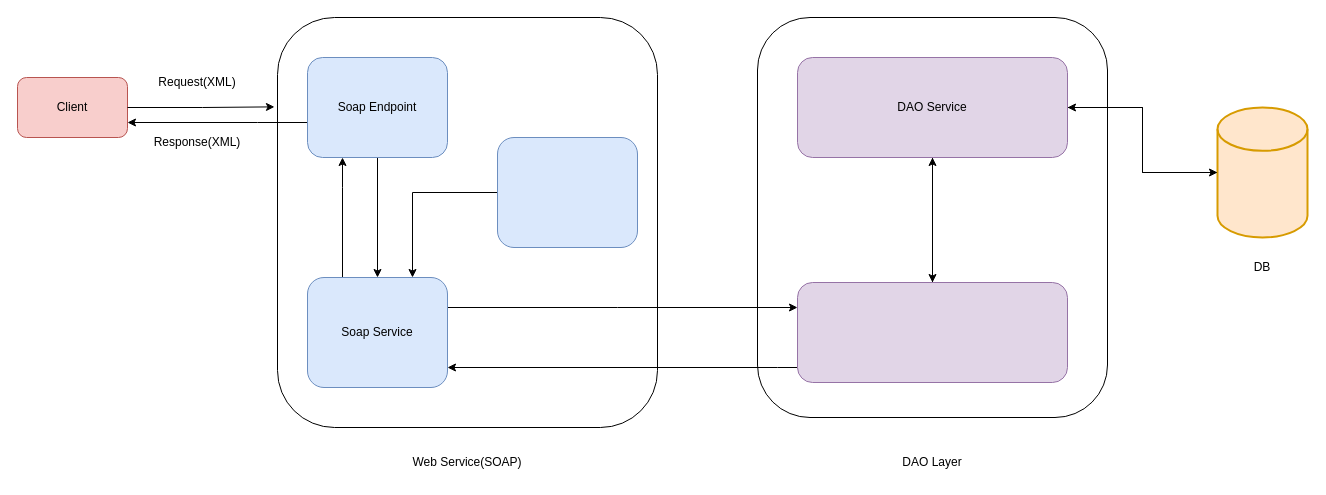
The diagram is 1326 pixels wide and 495 high, and some of its shapes have lost their labels. Here are the shapes that lost their labels. From the top down, the centre of each, then its label:
At point 567,192: "WSDL(Deposit)".
At point 932,332: "Interface".
